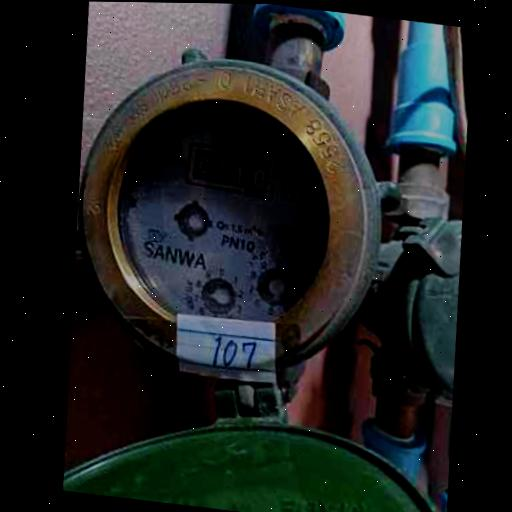0: (241, 155, 272, 199), (191, 148, 217, 182)
1: (210, 150, 234, 184), (227, 153, 250, 188)
border_water_meter_number: (181, 139, 282, 200)
